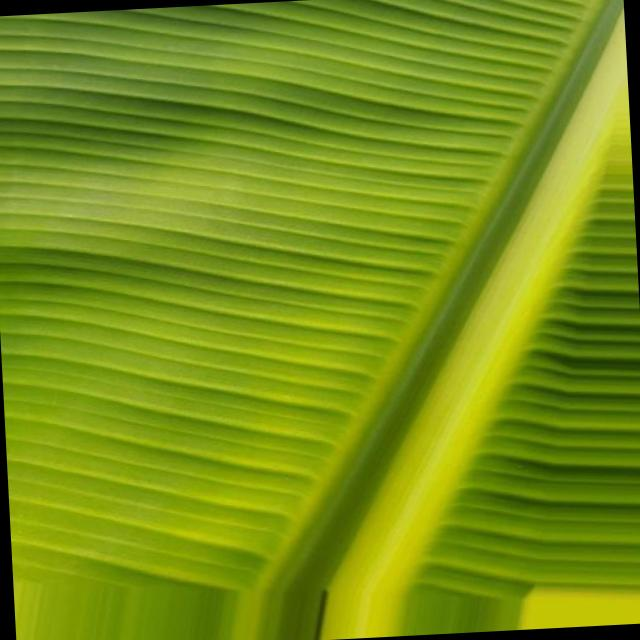Banana_Healthy: (36, 44, 452, 458)
